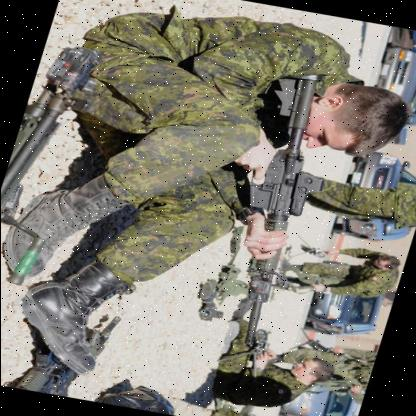rifle: (202, 72, 346, 348)
